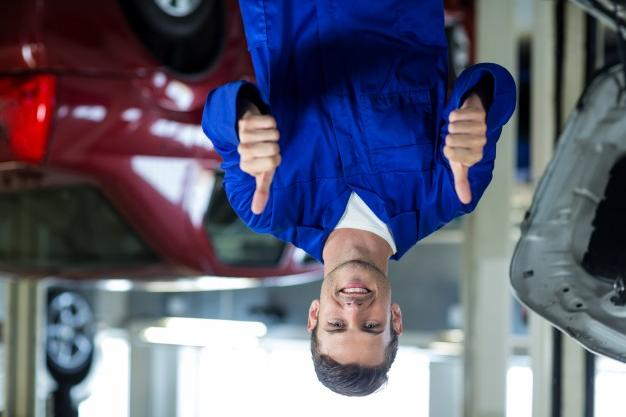thumbsdown: (237, 115, 282, 214), (442, 107, 487, 204)
